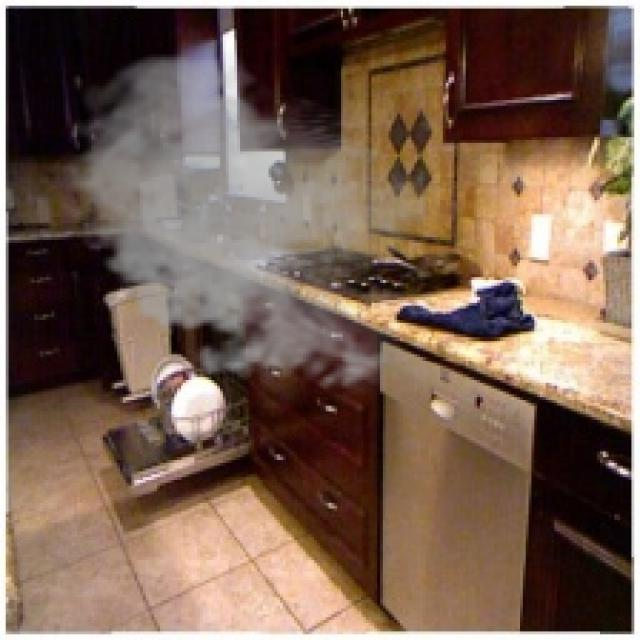Smoke: (54, 46, 429, 400)
